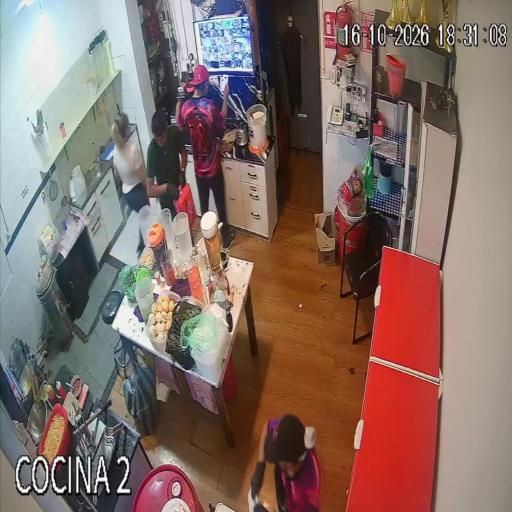Envase Ketchup: (56, 381, 65, 400)
Envase Llajua: (43, 383, 54, 402)
Jarra1: (150, 227, 167, 273)
Jarra2: (156, 209, 172, 247)
Jarra3: (174, 212, 192, 258)
Jarra4: (134, 278, 154, 321)
Persona1: (176, 65, 235, 248)
Persona2: (251, 414, 318, 512)
Persona3: (111, 114, 149, 213)
Persona4: (147, 111, 186, 216)
Taper: (40, 223, 61, 264)
Taper2: (181, 304, 230, 381)
Taper3: (166, 297, 203, 369)
Taper4: (146, 290, 180, 351)
